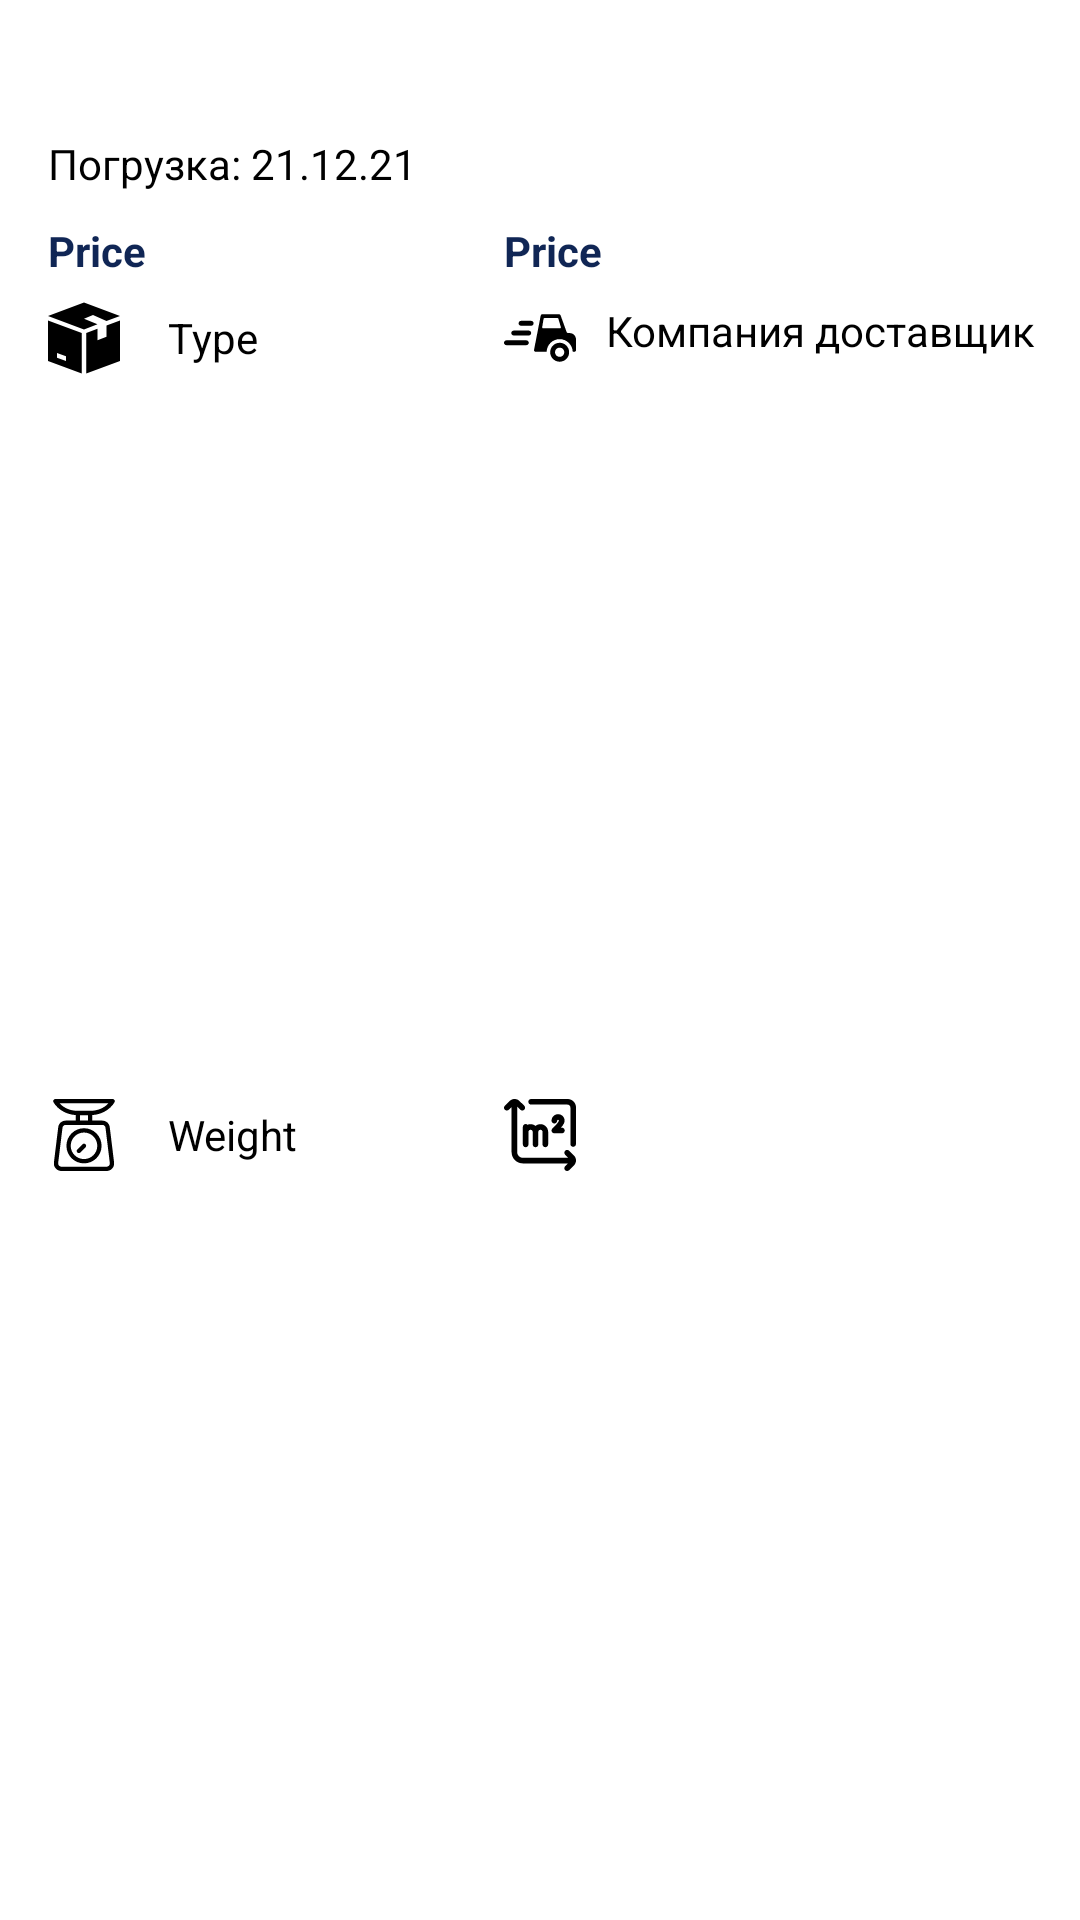

Icon click points for this 1080 × 1920 phone screenshot, format point (x, y):
area: point (540, 1135)
box: point (84, 338)
express delivery: point (540, 338)
scale: point (84, 1135)
